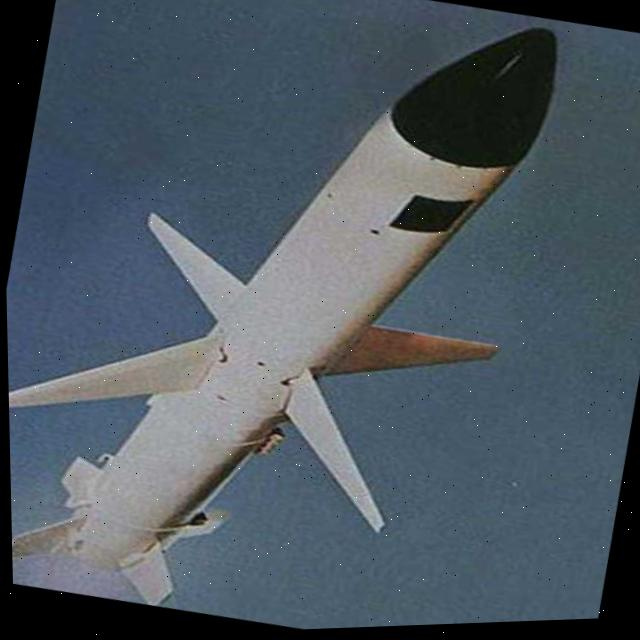missile: (0, 0, 583, 640)
